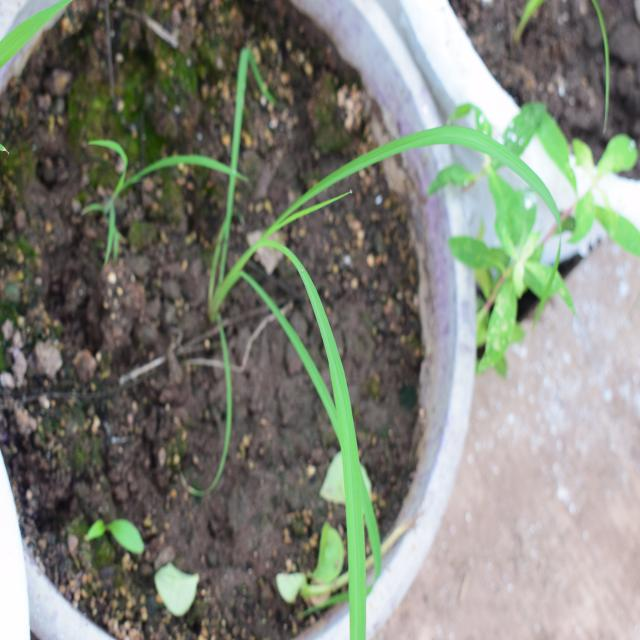barnyard_grass: (190, 68, 442, 602)
